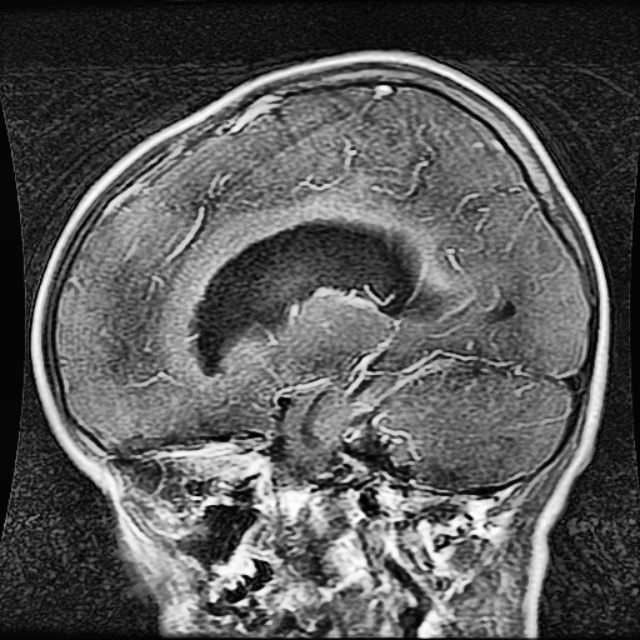Meningioma: (195, 217, 444, 379)
